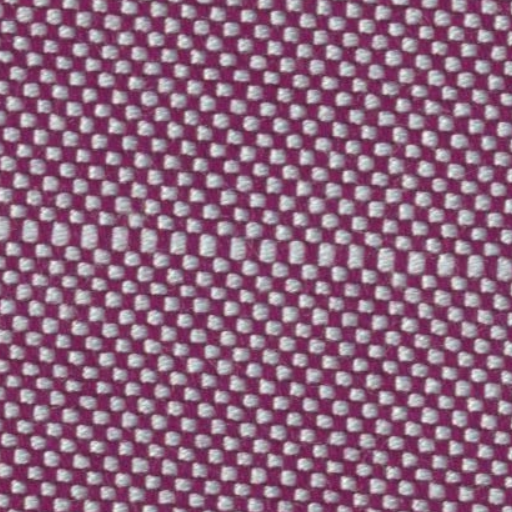TuoSha: (16, 204, 502, 326)
